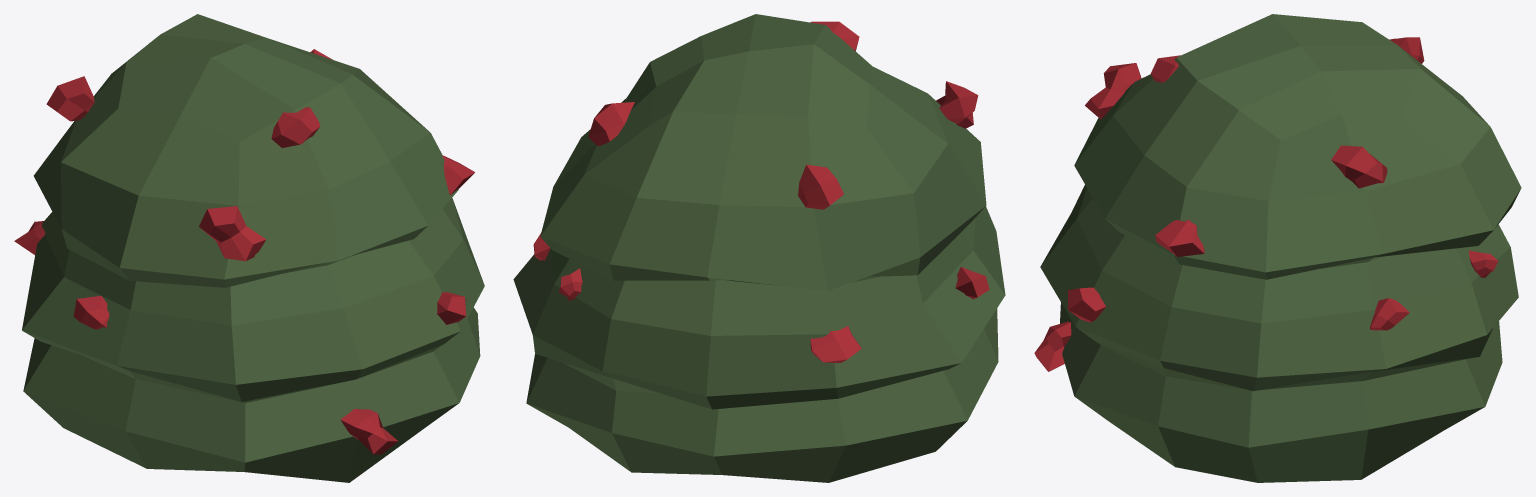
File: BushBerries_2.gltf
The picture shows the model from 3 angles, left to right: view 1: azimuth 30°, elevation 25°; view 2: azimuth 150°, elevation 25°; view 3: azimuth 270°, elevation 25°; orthographic projection. The views are drawn at different scales.
Visible parts, largest first — view 1: BushBerries_2; view 2: BushBerries_2; view 3: BushBerries_2.
Boxes of the visible parts, bbox=[...] form: BushBerries_2: bbox=[14, 14, 484, 482]; BushBerries_2: bbox=[513, 14, 1005, 482]; BushBerries_2: bbox=[1034, 14, 1521, 482].
Bounding box in the file's own units: 1.34 × 1.13 × 1.33.
